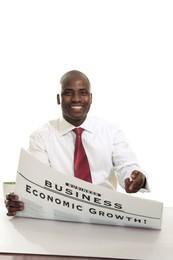face: (60, 76, 92, 123)
